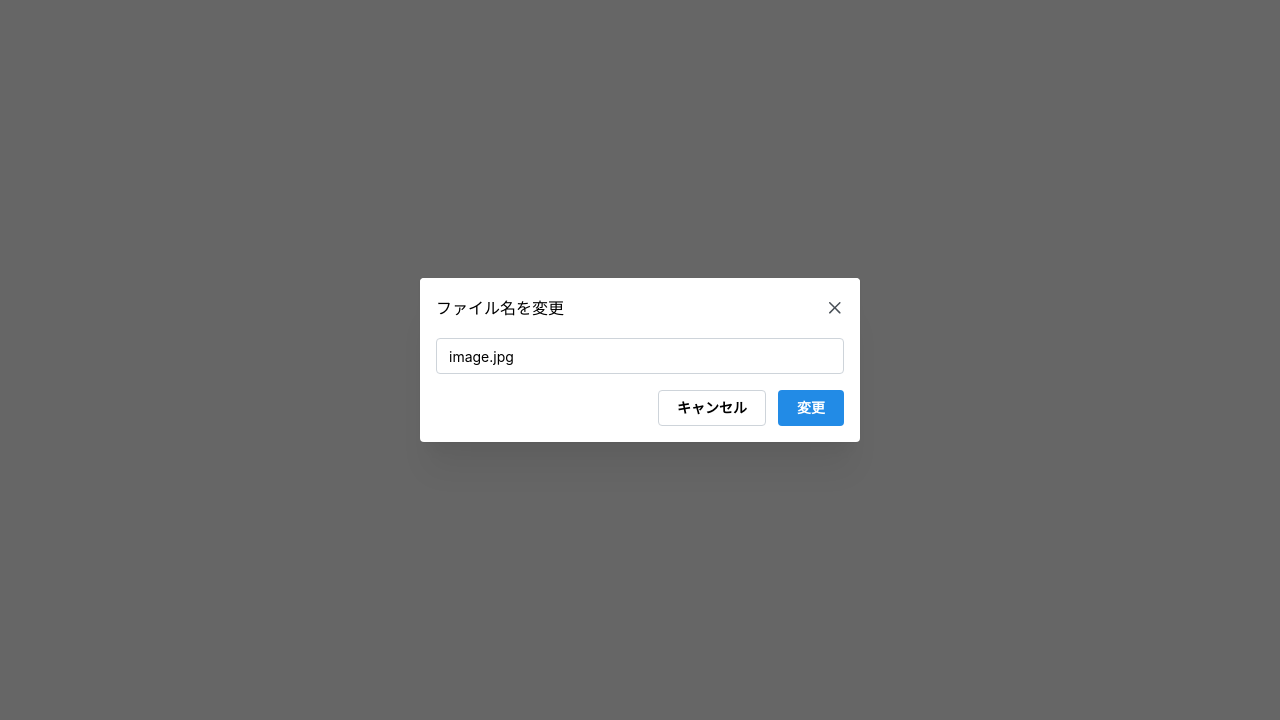
RenameDialog › validation error display › should show error for unchanged name
Name is already set to item.name, just click submit
What coordinates should you click on to do the following:
click the button "変更"
I would click on:
 (811, 408)
Its box is [778,390,844,426].
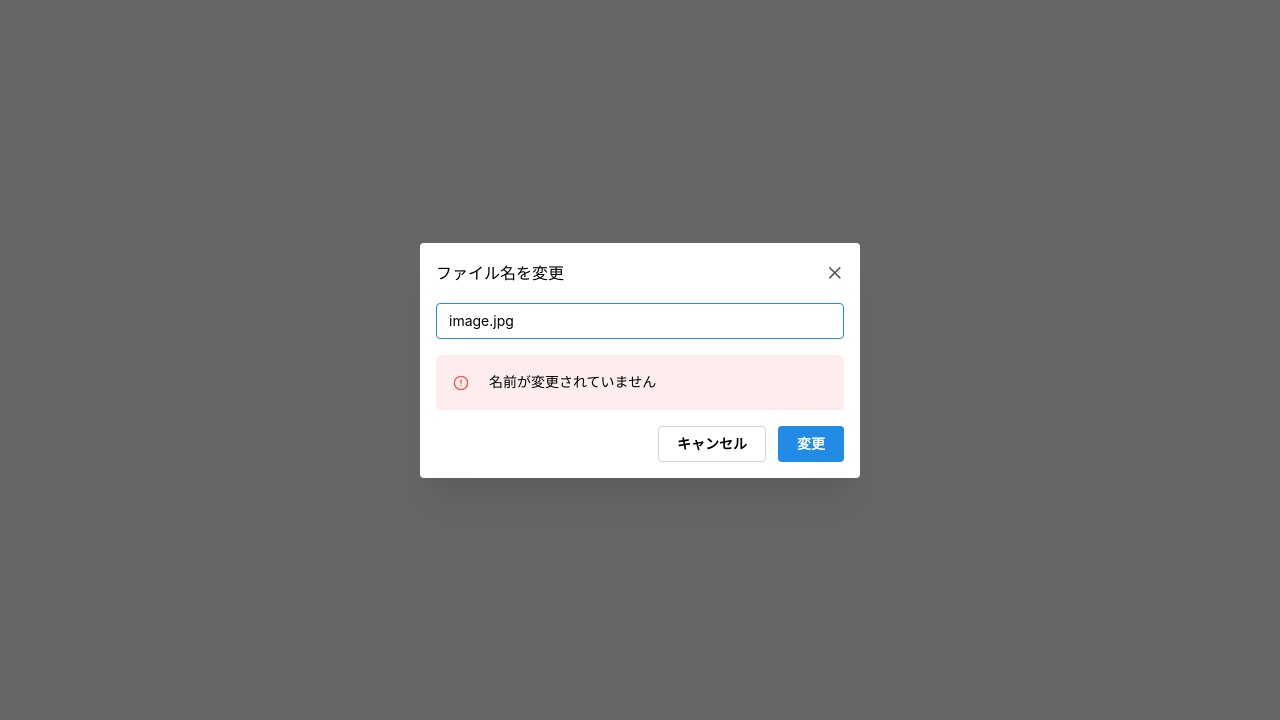
expect the text "名前が変更されていません" is shown: met, box [489,372,656,390]
